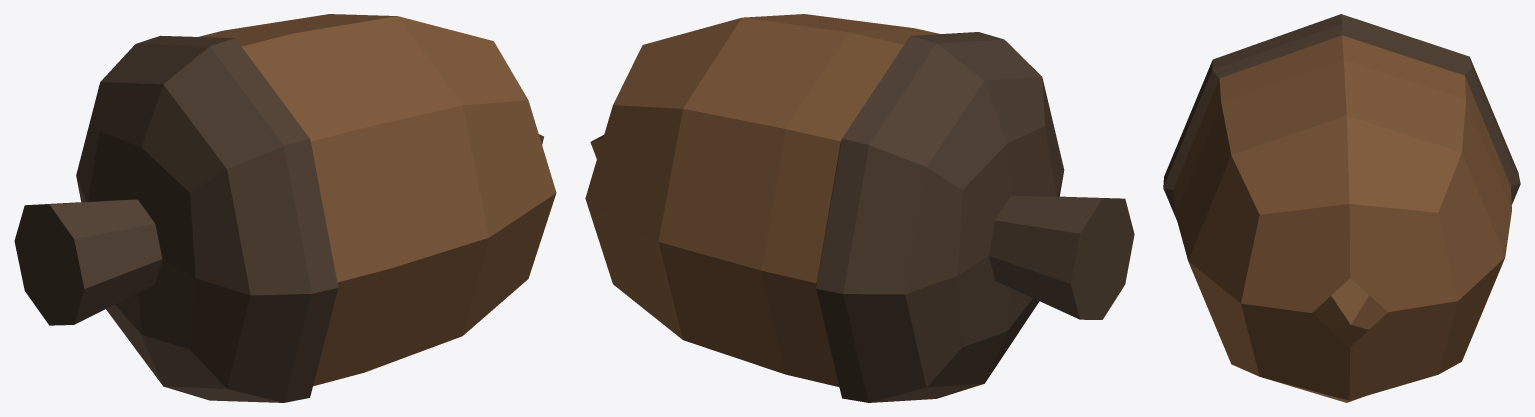
Rendered from dotori8.gltf.
The picture shows the model from 3 angles, left to right: view 1: azimuth 30°, elevation 25°; view 2: azimuth 150°, elevation 25°; view 3: azimuth 270°, elevation 25°; orthographic projection. The views are drawn at different scales.
Parts seen in each view (by area): view 1: Cube.006_Cube.007, Cube.005_Cube.007; view 2: Cube.006_Cube.007, Cube.005_Cube.007; view 3: Cube.005_Cube.007, Cube.006_Cube.007.
Part boxes in pixels (x1,y1,x2,y2): Cube.006_Cube.007: [14, 35, 338, 402]; Cube.005_Cube.007: [199, 14, 556, 386]; Cube.006_Cube.007: [816, 32, 1134, 402]; Cube.005_Cube.007: [585, 14, 939, 386]; Cube.005_Cube.007: [1173, 35, 1511, 402]; Cube.006_Cube.007: [1163, 14, 1520, 219].
Bounding box in the file's own units: 3.01 × 2.04 × 2.04.
